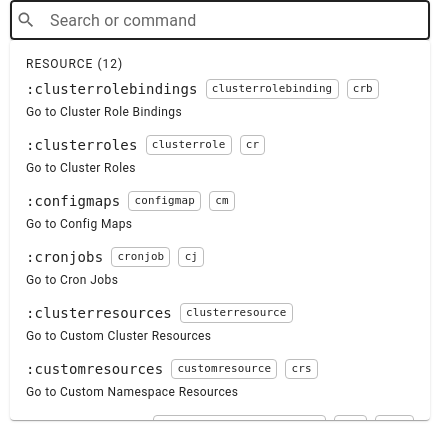
it: inline search, map options and namespace preference › retains a partition failure after the other succeeds and clears it only on retry
Step 1. Type "api-7f" into the dropdown with placeholder "Search or command" → x=232, y=20, box [42,6,421,34]
Wait 350 ms
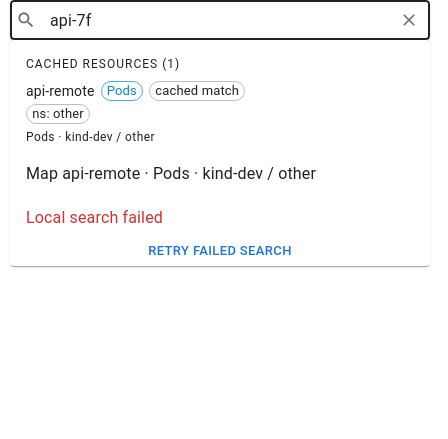
Expected: the text "api-remote" is shown, [26,81,95,101]
Expected: the message reads "Local search failed", [26,208,163,227]
Step 2. Click the button "Retry failed search" → x=220, y=251, box [10,236,430,266]
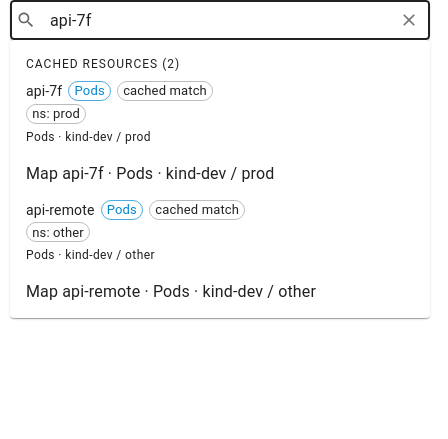
Expected: the text "api-remote" is shown, [26,200,95,220]
Expected: the message "Local search failed" is gone
Expected: the text "api-7f" is shown, [26,81,62,101]
